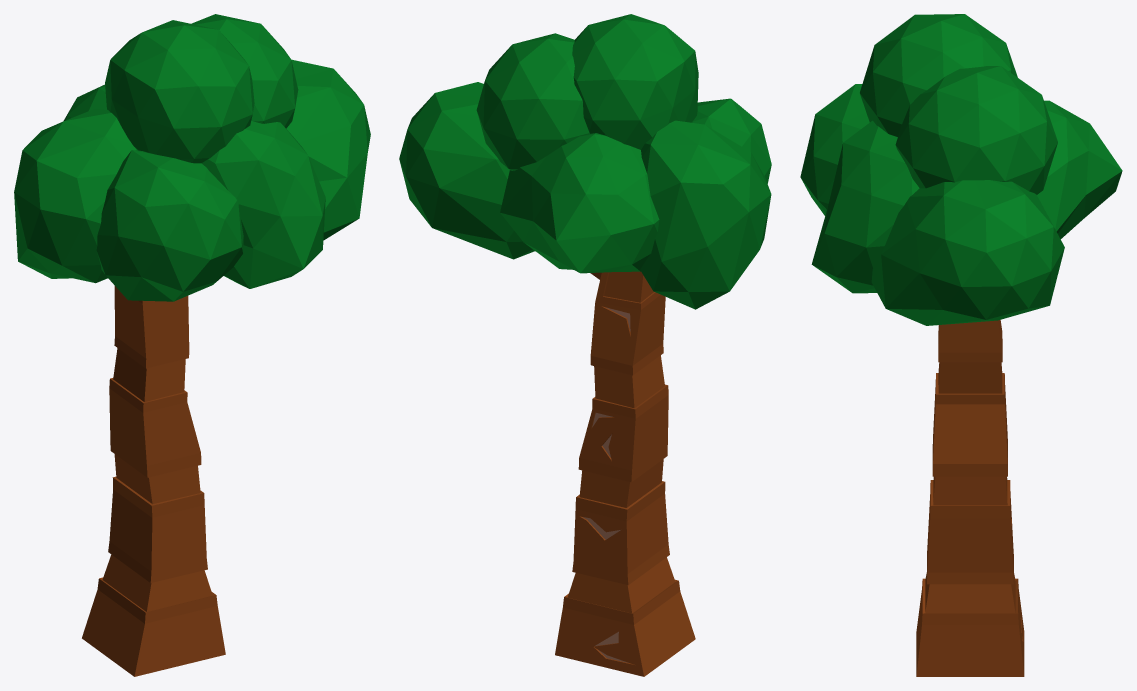
The model's file is tree.fbx.
The picture shows the model from 3 angles, left to right: view 1: azimuth 30°, elevation 25°; view 2: azimuth 150°, elevation 25°; view 3: azimuth 270°, elevation 25°; orthographic projection. The views are drawn at different scales.
Parts seen in each view (by area): view 1: Cube; view 2: Cube; view 3: Cube.
Part boxes in pixels (x1,y1,x2,y2): Cube: (14,14,370,676); Cube: (399,14,771,676); Cube: (800,14,1122,676).
Bounding box in the file's own units: 204 × 355 × 161.
